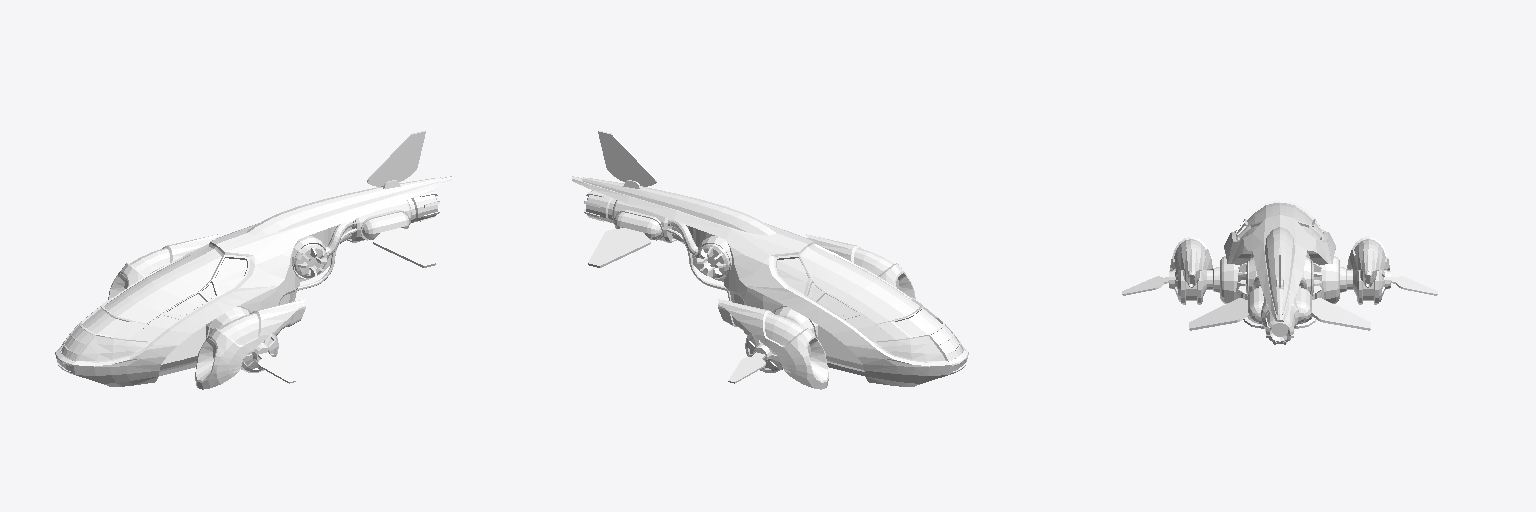
Rendered from ship_1.obj.
The picture shows the model from 3 angles: view 1: azimuth 30°, elevation 25°; view 2: azimuth 150°, elevation 25°; view 3: azimuth 270°, elevation 25°; orthographic projection.
Visible parts, largest first — view 1: Ship_Type_3_Sphere.005; view 2: Ship_Type_3_Sphere.005; view 3: Ship_Type_3_Sphere.005.
Boxes of the visible parts, x1,y1,x2,y2 form: Ship_Type_3_Sphere.005: [55, 131, 451, 389]; Ship_Type_3_Sphere.005: [572, 131, 968, 389]; Ship_Type_3_Sphere.005: [1122, 201, 1437, 344].
Size of the model in its own units: 0.8613 by 0.3519 by 0.5999.